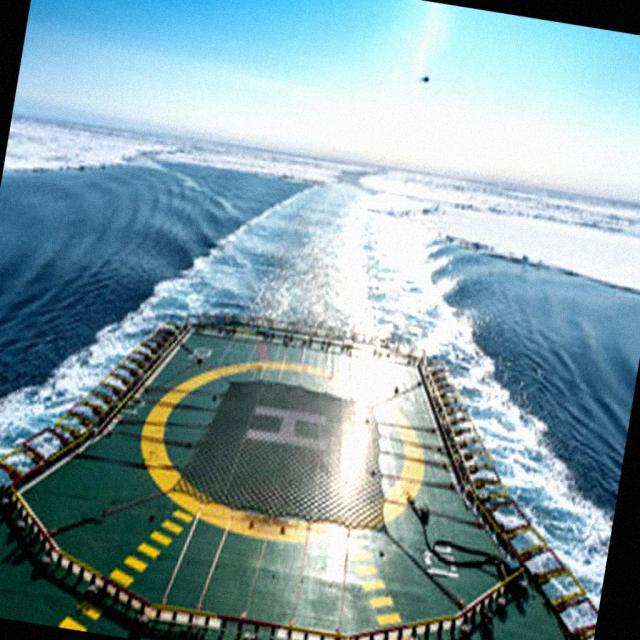helipad: (138, 359, 426, 546)
